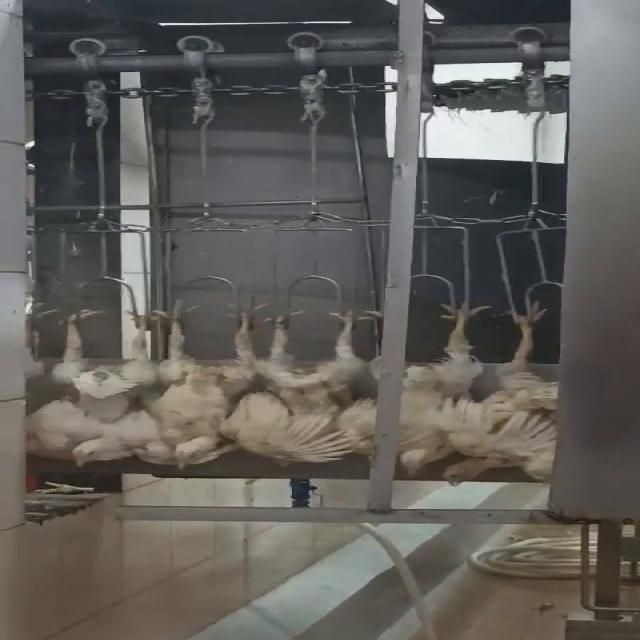chicken: (342, 297, 502, 478), (446, 302, 582, 488), (22, 304, 174, 470), (231, 307, 373, 466), (135, 303, 261, 473)
